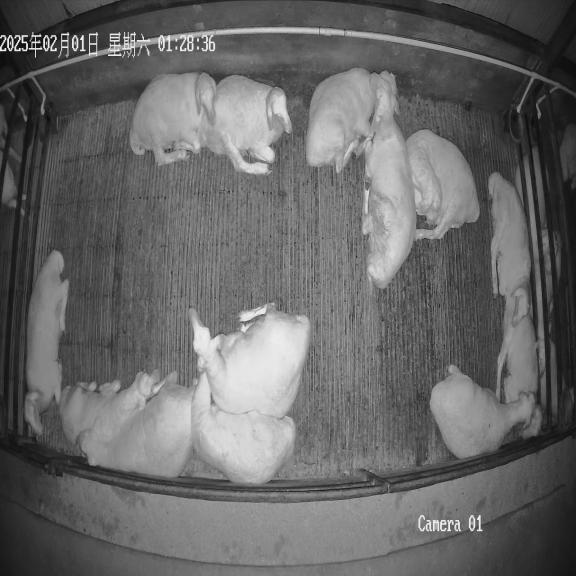lying: (189, 303, 310, 418), (79, 372, 197, 478), (191, 375, 296, 484), (362, 88, 416, 289), (430, 365, 535, 459), (488, 172, 531, 396), (305, 68, 397, 172), (200, 75, 292, 175), (59, 371, 159, 456), (24, 250, 69, 436), (129, 72, 216, 166), (406, 129, 479, 239), (503, 314, 542, 439)
